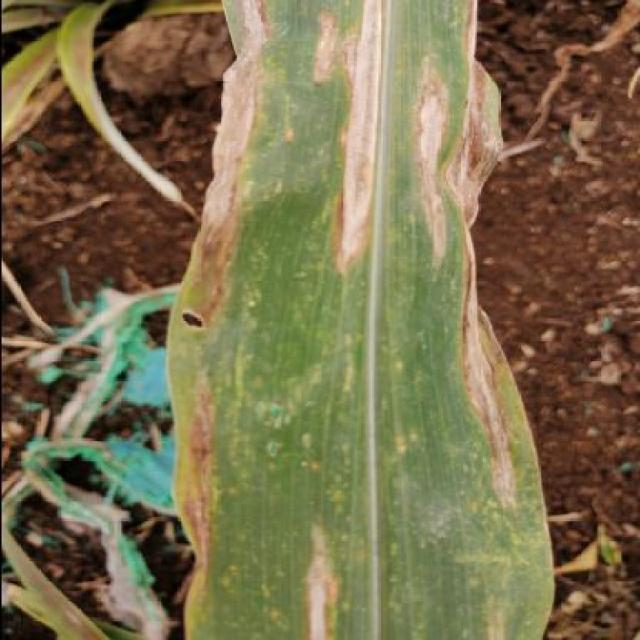Corn_Leaf_Blight: (176, 0, 546, 640)
